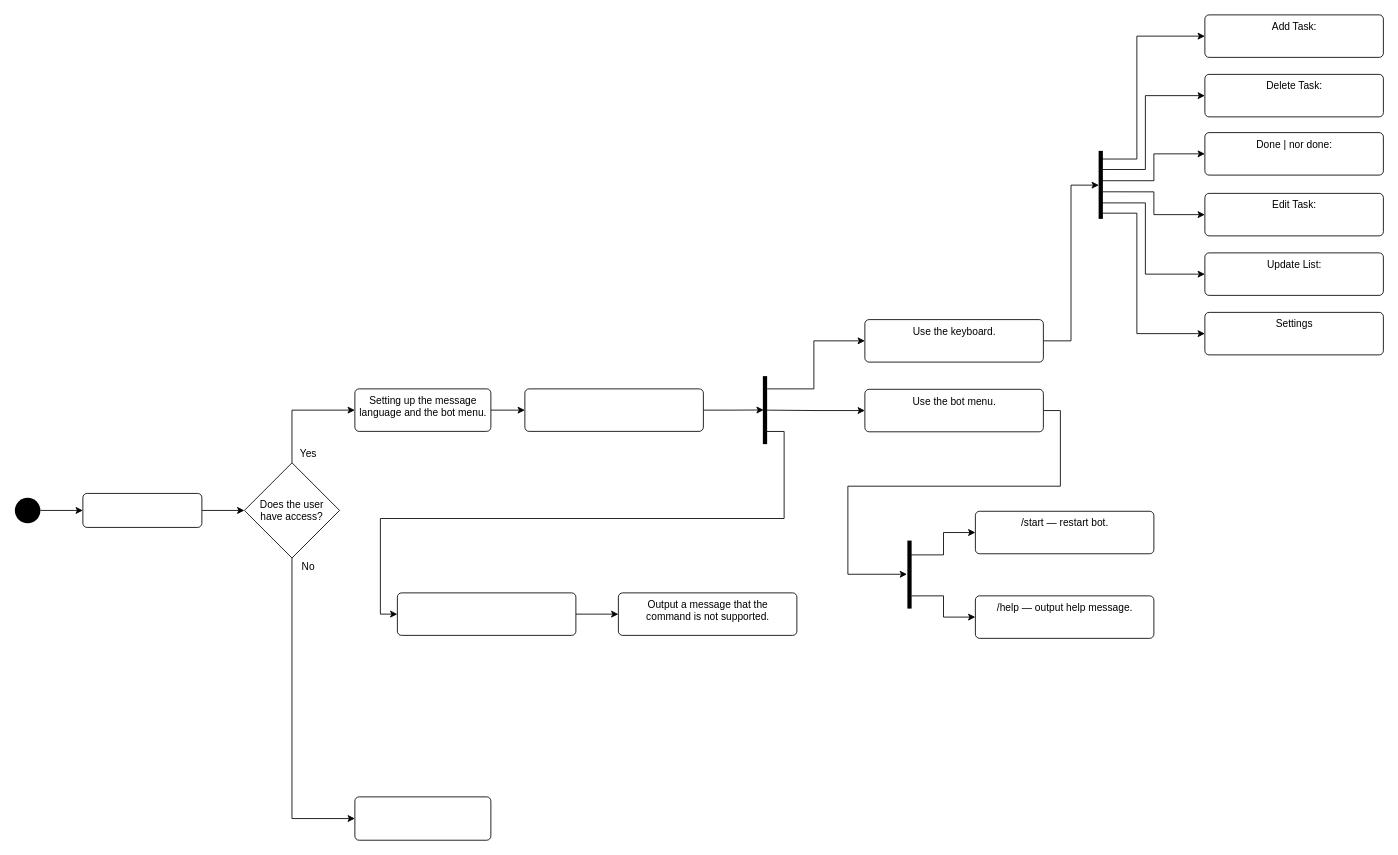
Image size: 1398x855. Some labels were removed from this diagram. The box of each missing label's shape, as (x1, y1, x2, y2) in pixels:
Displaying the user to-do list together with the control keyboard.: (524, 388, 703, 431)
Output a message aboutthe access denial.: (354, 796, 491, 840)
Start Bot.: (82, 493, 202, 527)
Use third-party text.: (397, 592, 576, 635)
